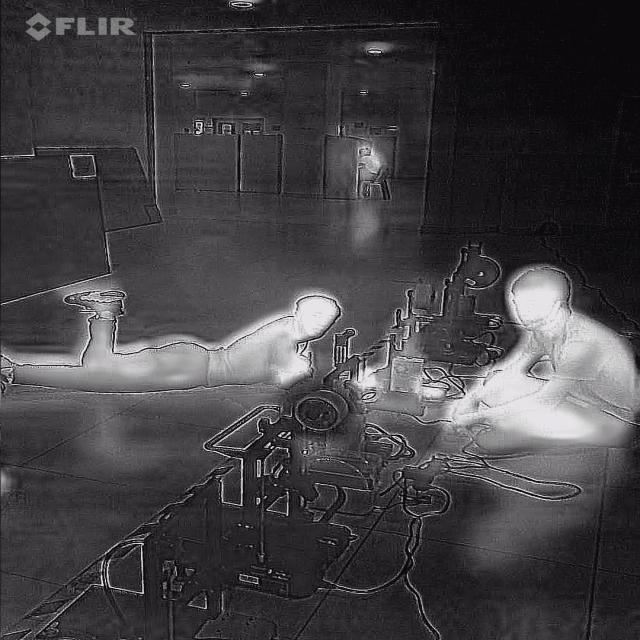Victim: (428, 253, 640, 458), (0, 286, 350, 404)
